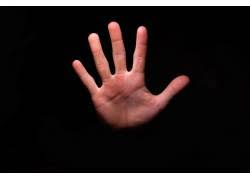palm: (67, 19, 191, 129)
